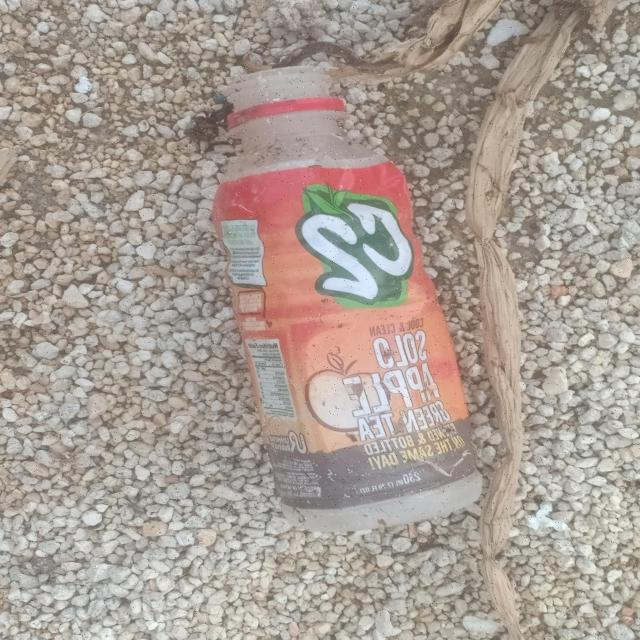plastic_waste: (212, 65, 487, 535)
